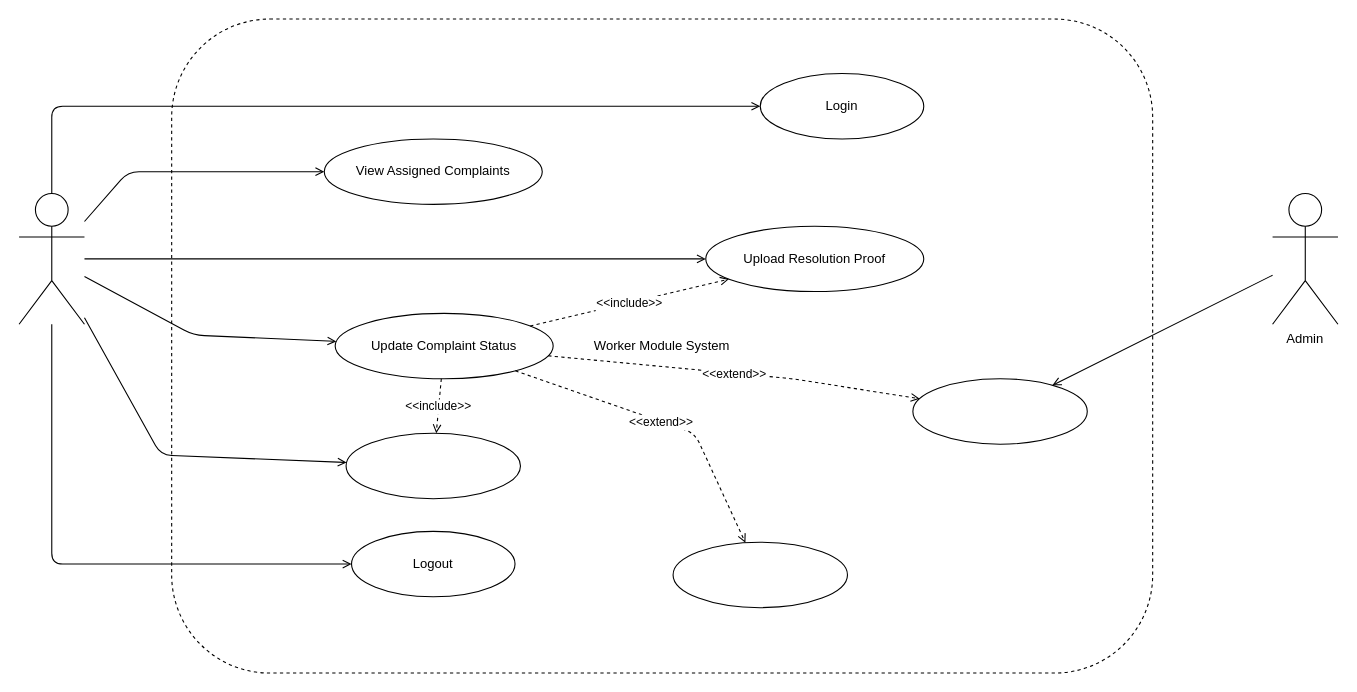
Some shapes in this 1357 by 692 pixel diagram are drawn without their labels. The centre of each missing label's shape, as x and y in pixels:
"Add Remarks" belongs at [432,465].
"Log Activity" belongs at [759,574].
"Notify Admin" belongs at [999,411].
"Worker" belongs at [51,258].
